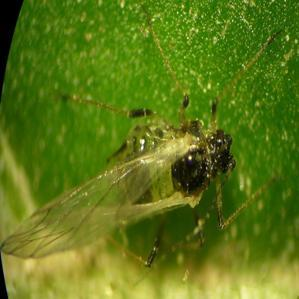Green peach aphid: (1, 17, 299, 299)
